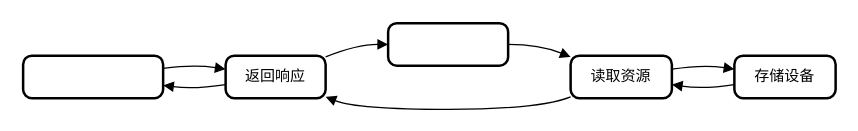
The diagram is 858 pixels wide and 131 high, and some of its shapes have lost their labels. The box of each missing label's shape, as (x1, y1, x2, y2) in pixels:
响应给客户端: (21, 54, 164, 99)
服务器主机: (386, 21, 509, 66)
